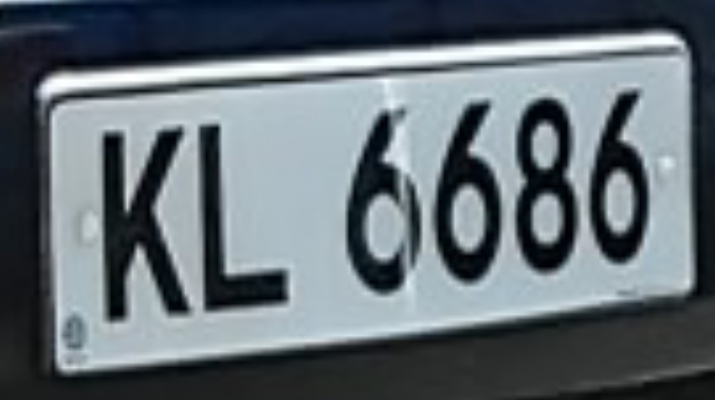6: (331, 93, 432, 310), (422, 82, 520, 289), (577, 76, 655, 274)
8: (503, 81, 586, 283)
K: (85, 109, 205, 330)
L: (184, 103, 302, 331)
